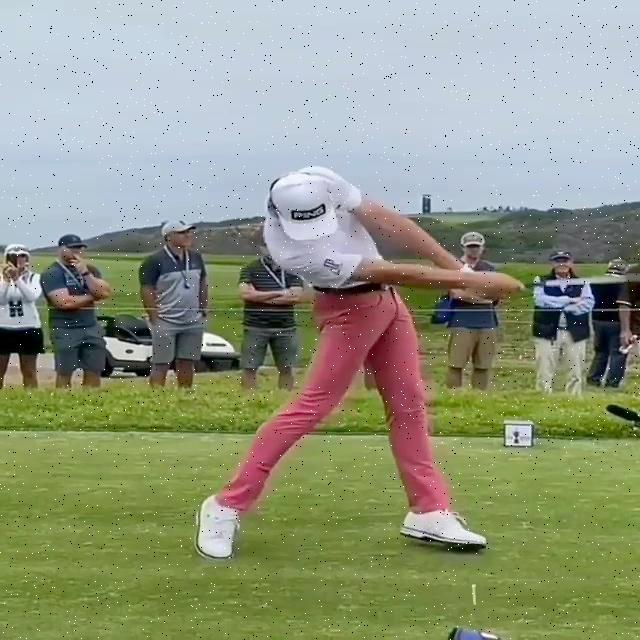ClubHandle: (525, 272, 640, 290)
